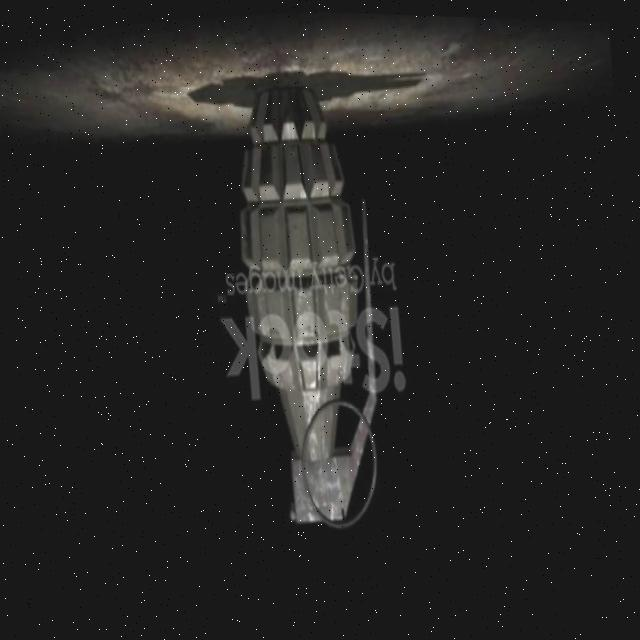grenade: (221, 66, 402, 540)
